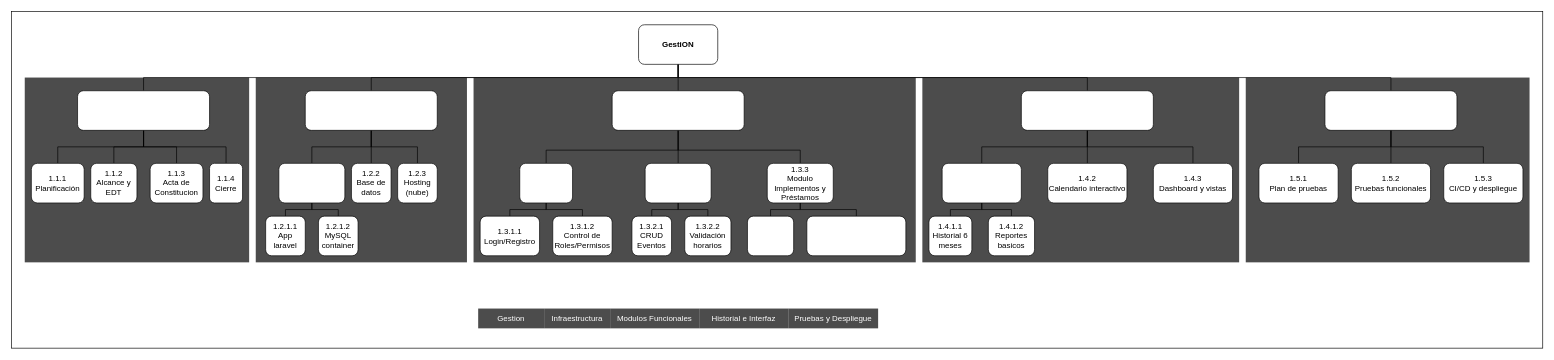
This 1554x360 diagram has some shape labels left out. The centre of each missing label's shape, as x and y in pixels:
1.1 Gestión del proyecto: (143,110)
1.2 Infraestructura y entorno: (371,110)
1.2.1 Infraestructura tecnica (docker): (311,183)
1.3 Módulos funcionales del sistema: (677,110)
1.3.1 Modulo Autenticación: (546,183)
1.3.2 Modulo Eventos/Turnos: (677,183)
1.3.3.1 Inventario: (770,235)
1.3.3.2 Préstamos/devoluciones: (856,235)
1.4 Historial, reportes e interfaz: (1087,110)
1.4.1 Historial y reportes: (981,183)
1.5 Pruebas y despliegue: (1390,110)
